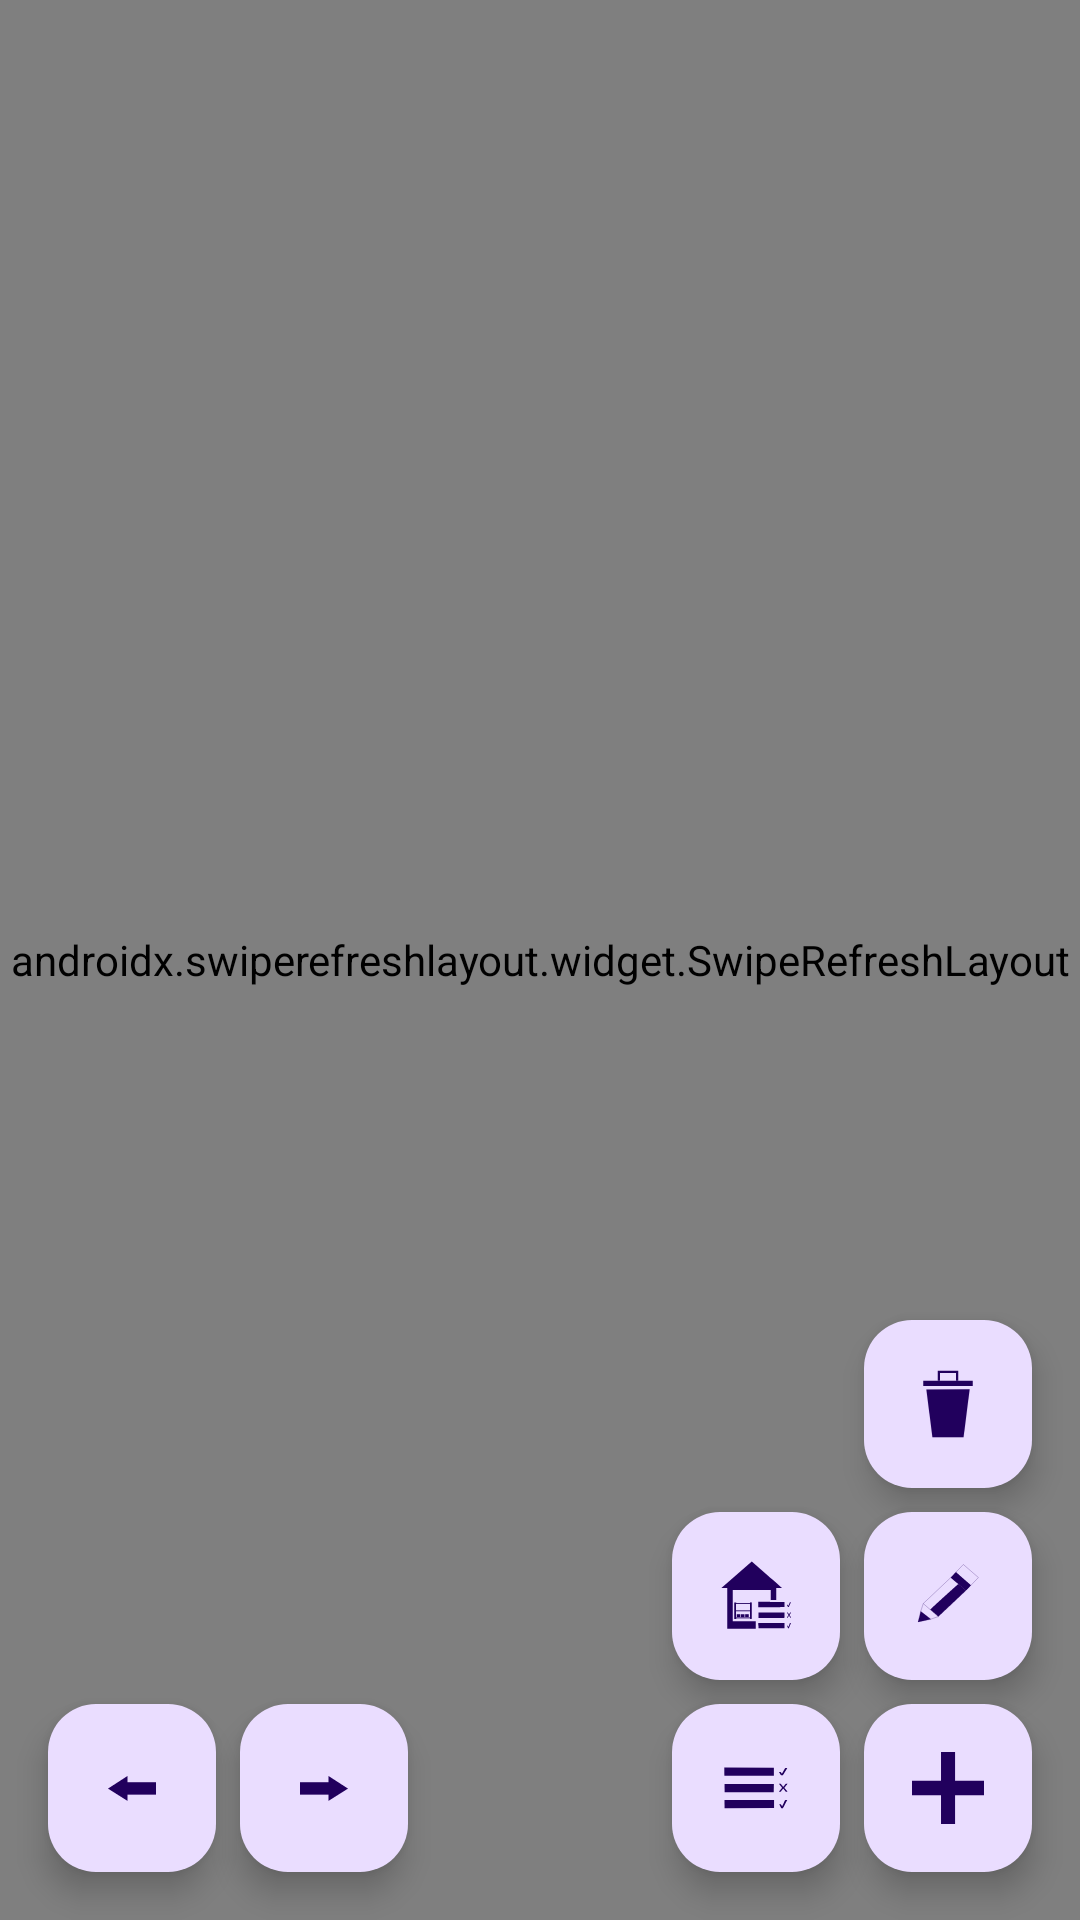

Where icons sit on this 1080 x 1920 app screen, as (x1, y1, x2, y2):
Add: (864, 1704, 1032, 1872)
Back: (48, 1704, 216, 1872)
Edit user: (864, 1512, 1032, 1680)
Local authorizations: (672, 1512, 840, 1680)
Next: (240, 1704, 408, 1872)
Remove: (864, 1320, 1032, 1488)
System authorizations: (672, 1704, 840, 1872)
